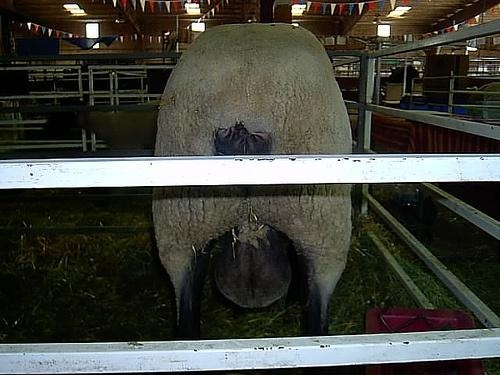sheep: (153, 22, 355, 342)
